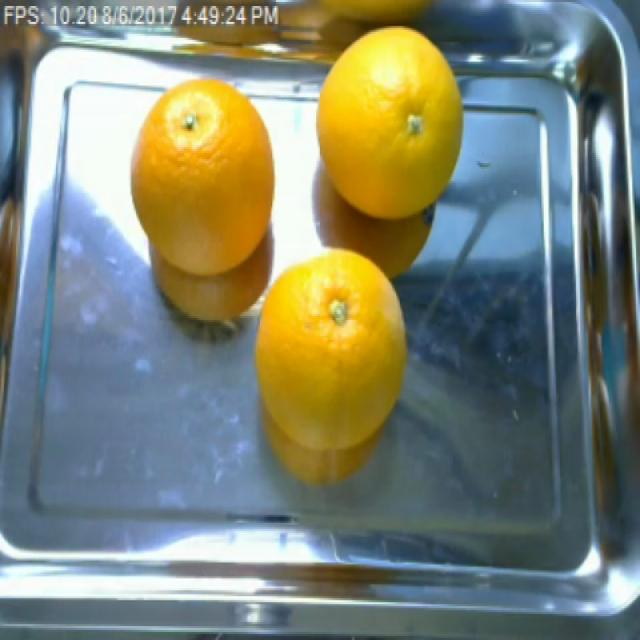Fruit: (242, 320, 402, 495)
